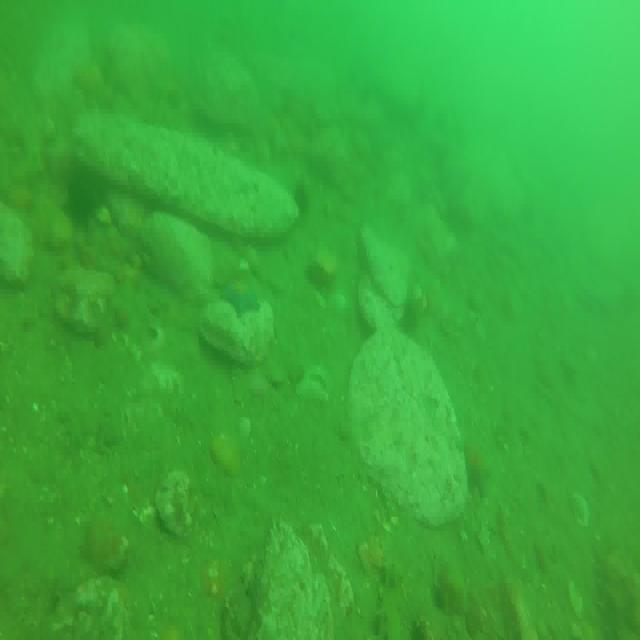echinus: (66, 178, 99, 228)
starfish: (219, 271, 262, 316), (459, 441, 491, 499)
